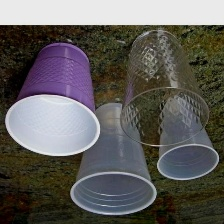glass: (2, 40, 103, 159), (117, 27, 212, 151), (66, 97, 161, 219), (154, 93, 222, 182)
